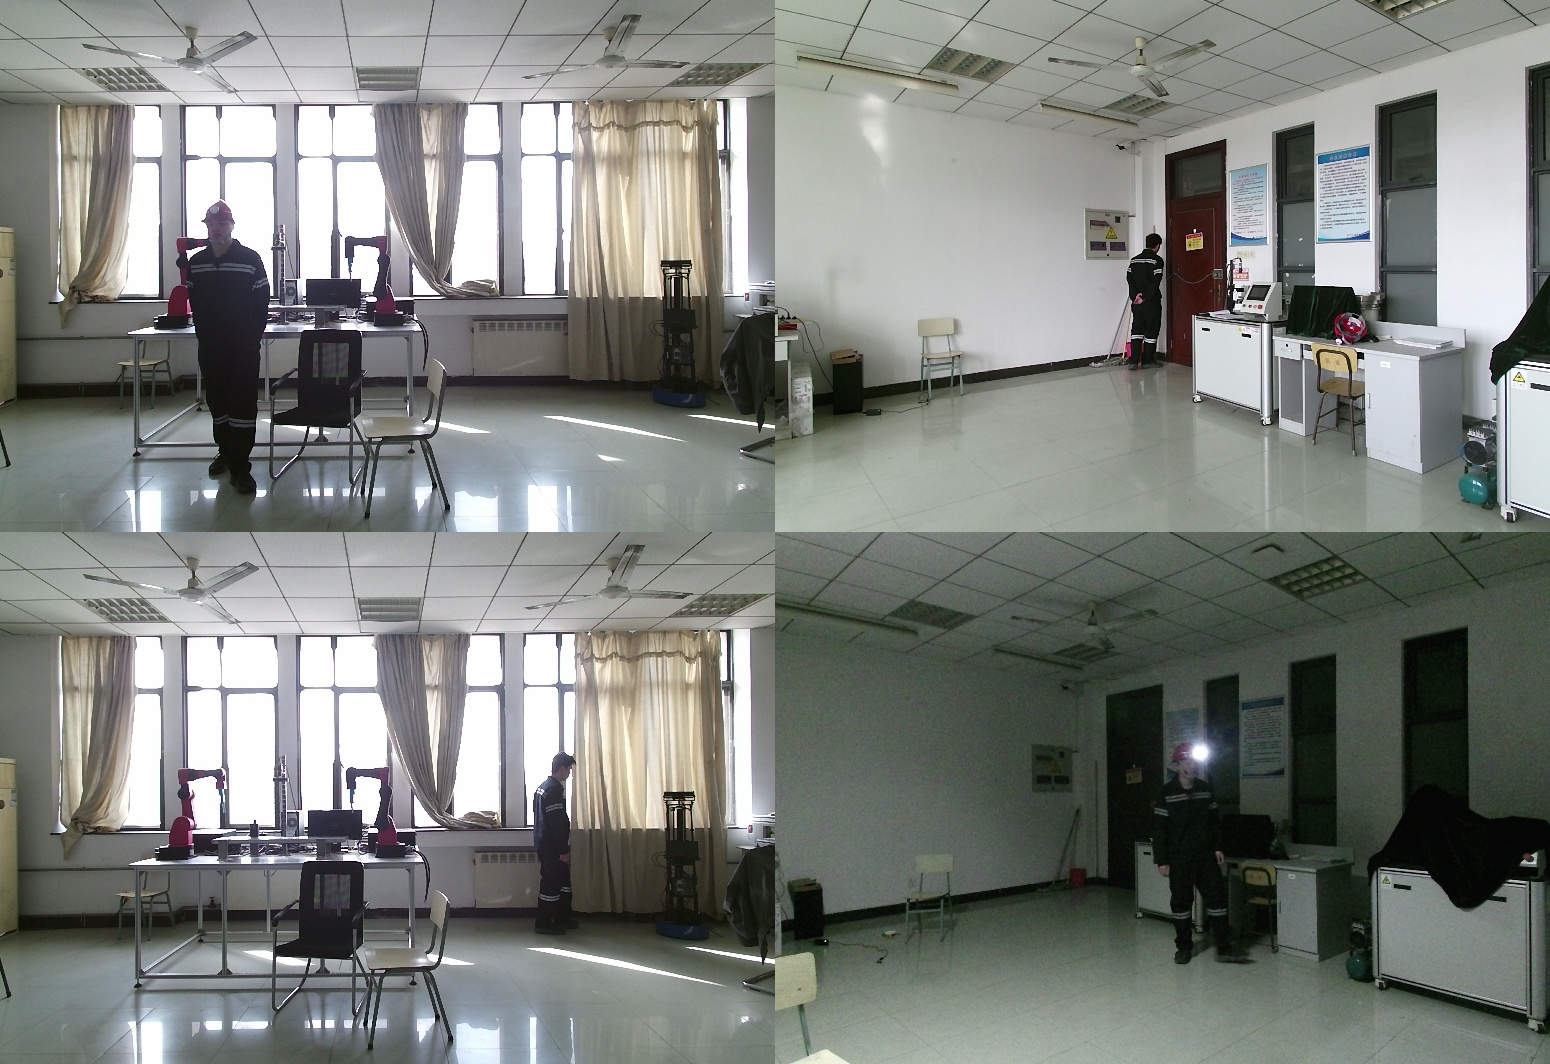person: (181, 202, 270, 486), (1146, 741, 1237, 975), (535, 758, 602, 941), (1123, 231, 1167, 371)
